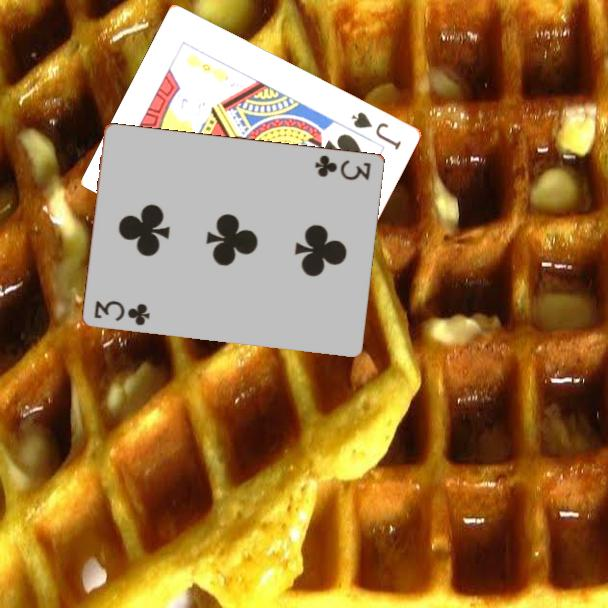c03: (312, 151, 374, 183), (91, 297, 153, 328)
s11: (348, 108, 405, 153)
